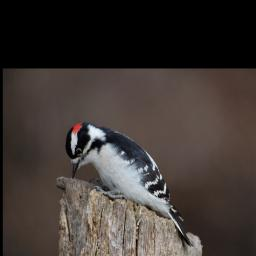Woodpecker: (64, 120, 195, 249)
